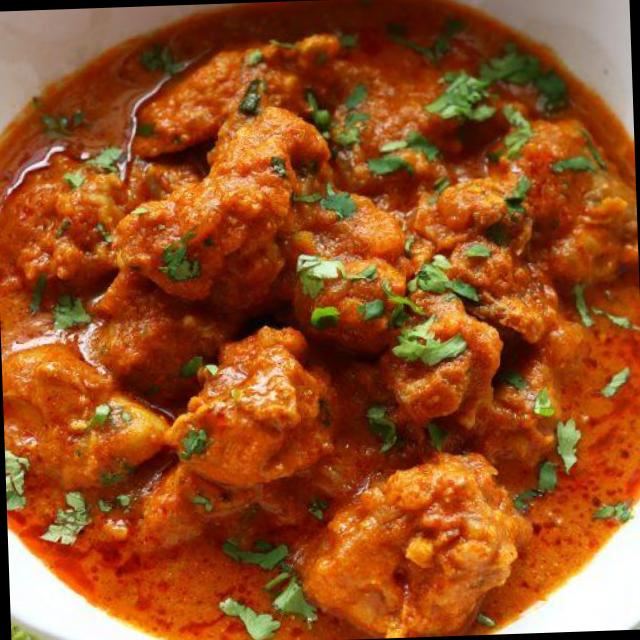chicken: (8, 19, 640, 640)
